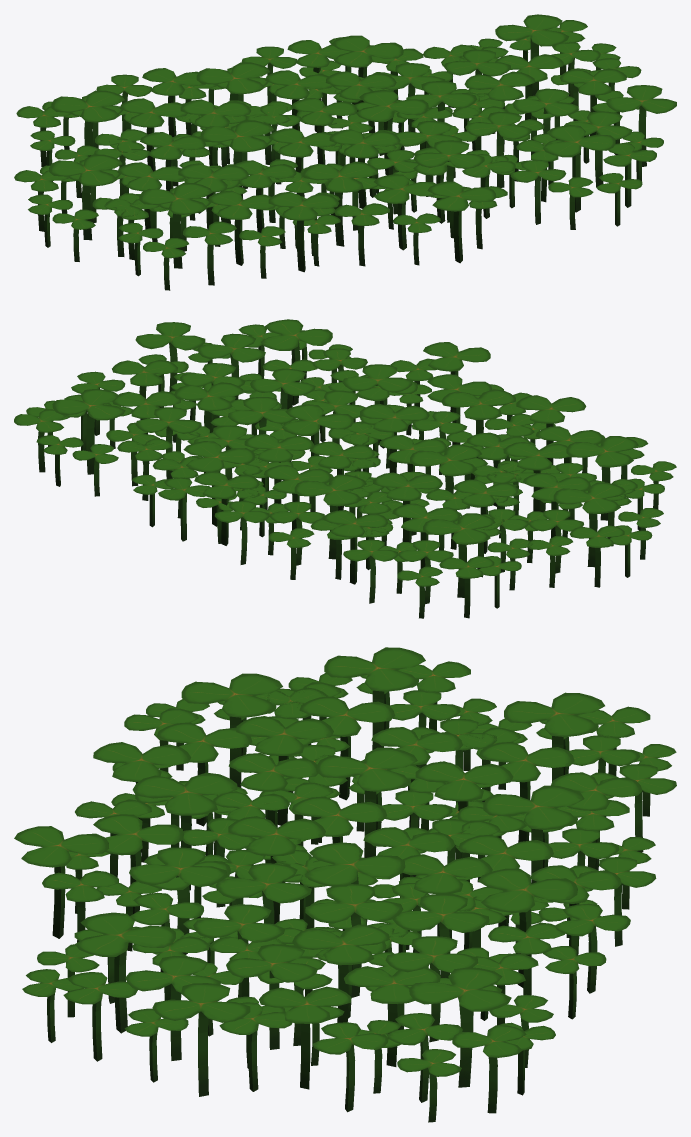
File: L_Clover.fbx
The picture shows the model from 3 angles, top to bottom: view 1: azimuth 30°, elevation 25°; view 2: azimuth 150°, elevation 25°; view 3: azimuth 270°, elevation 25°; orthographic projection. The views are drawn at different scales.
Visible parts, largest first — view 1: polySurface113; view 2: polySurface113; view 3: polySurface113.
Boxes of the visible parts, x1,y1,x2,y2 form: polySurface113: (14, 14, 676, 290); polySurface113: (14, 319, 676, 618); polySurface113: (14, 647, 676, 1122).
Bounding box in the file's own units: 3.74 × 0.4055 × 2.55.
Materials: 1 (1 with a texture image).
